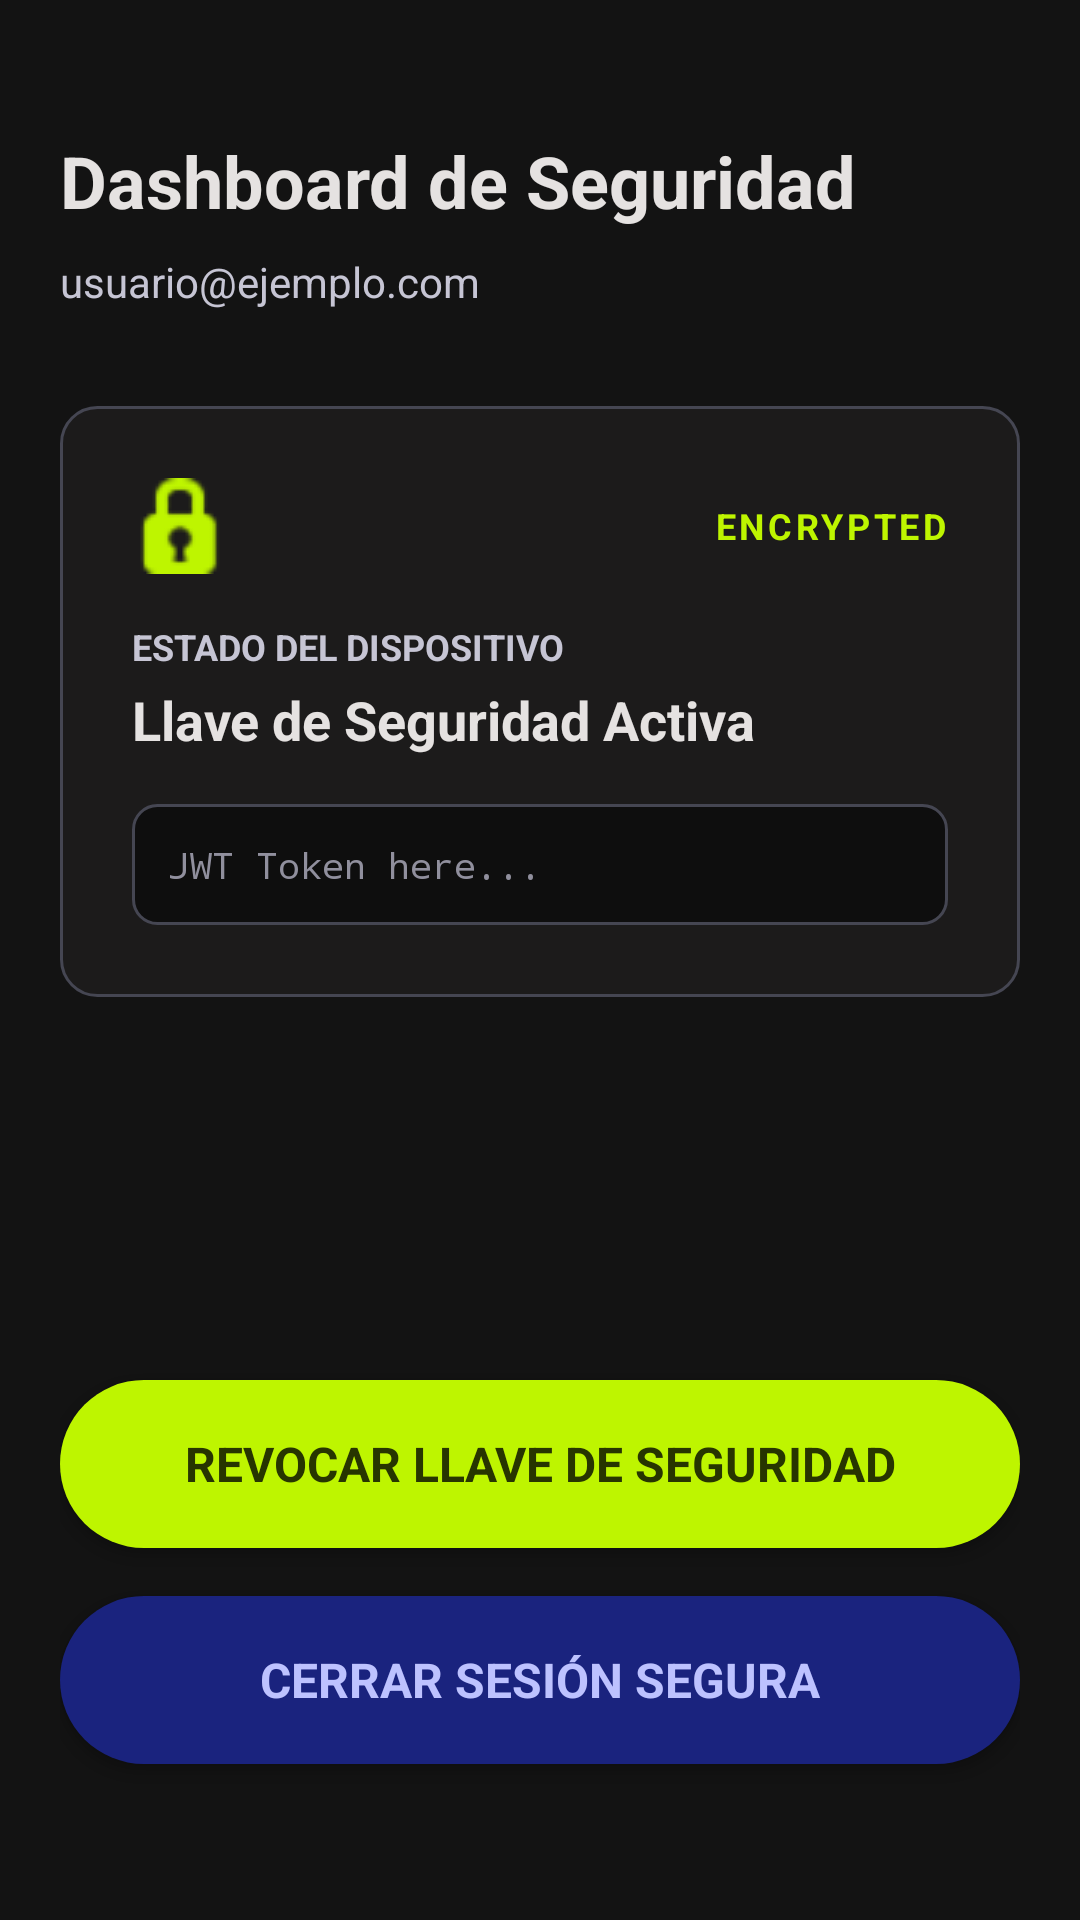

Icons on this 1080x1920 Android screen, each with the point to tap as point (x, y):
secure: point (179, 526)
